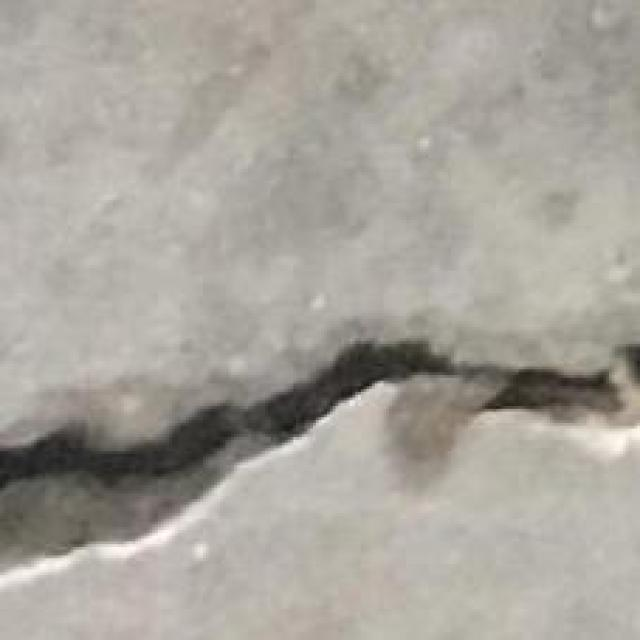horizontal crack: (0, 341, 619, 489)
